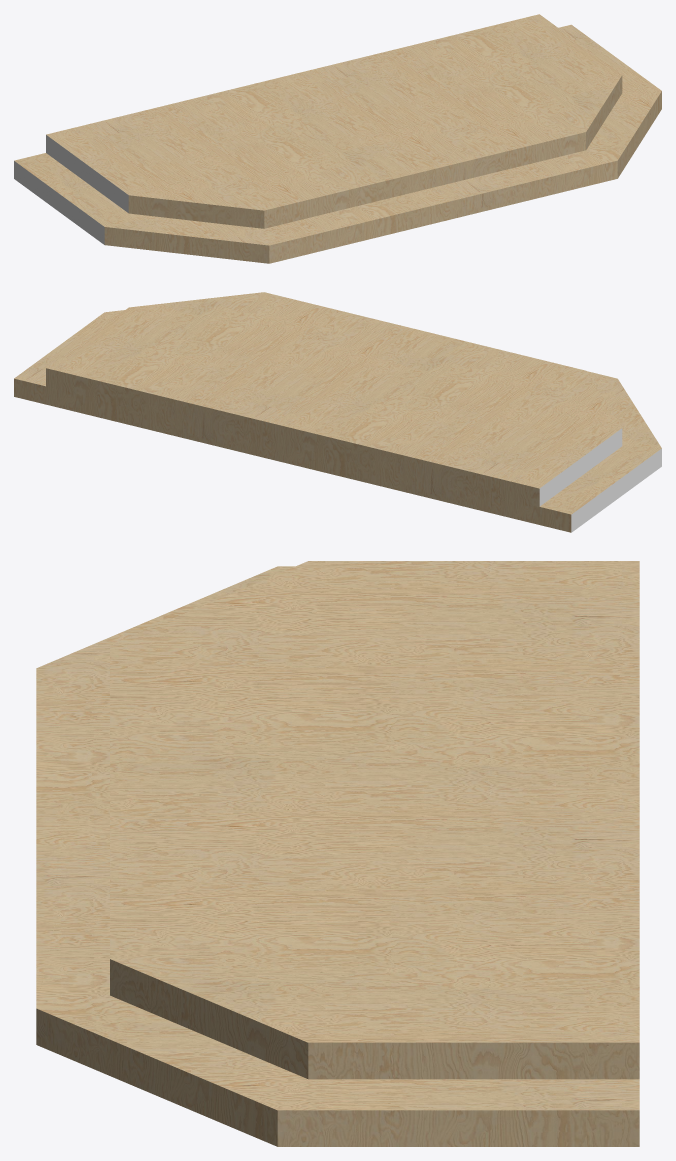
The model's file is stage.glb.
3 views of the same model, one above another, from view 1: azimuth 30°, elevation 25°; view 2: azimuth 150°, elevation 25°; view 3: azimuth 270°, elevation 25° (orthographic). The views are drawn at different scales.
Visible parts, largest first — view 1: Object_3, Object_2; view 2: Object_3, Object_2; view 3: Object_3.
Boxes of the visible parts, x1=… form: Object_3: x1=14, y1=14, x2=661, y2=263; Object_2: x1=14, y1=135, x2=128, y2=244; Object_3: x1=14, y1=292, x2=661, y2=532; Object_2: x1=539, y1=428, x2=661, y2=532; Object_3: x1=36, y1=561, x2=639, y2=1146.
Size of the model in its own units: 192 by 12 by 90.
2 materials, 1 textured.
